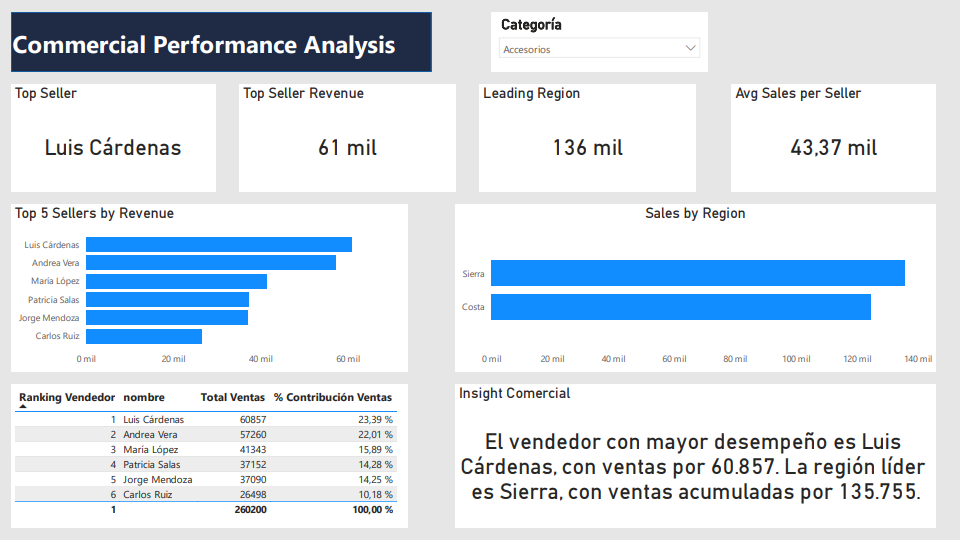

Layout of this report page (visuals, bound fields, positions):
{"tool":"powerbi","page":{"name":"Análisis Comercial","canvas":[1280,720],"ordinal":1},"visuals":[{"type":"slicer","fields":{"Values":["productos.categoria"]},"box":[694.1,174.2,279.4,92.2],"z":0},{"type":"tableEx","fields":{"Values":["Medidas.Top Vendedor","Medidas.Total Ventas","Medidas.Ranking Vendedor"]},"box":[121,178.6,398.9,87.8],"z":1000},{"type":"tableEx","fields":{"Values":["vendedores.nombre","Medidas.Total Ventas","Medidas.% Contribución Ventas"]},"box":[121,312.5,398.9,229],"z":2000},{"type":"barChart","title":"Ventas por Región","fields":{"Category":["vendedores.region"],"Y":["Medidas.Total Ventas"]},"box":[639.4,312.5,548.6,229],"z":3000},{"type":"textbox","box":[468,24.5,289.4,86.4],"z":3001}]}

Visuals, with their boxes in screenshot pixels (x1, y1, x2, y2), scaled from the page's 1280x720 canvas onto the 966x542 screenshot:
slicer - productos.categoria: 524/131/735/201
tableEx - Medidas.Top Vendedor x Medidas.Total Ventas: 91/134/392/201
tableEx - vendedores.nombre x Medidas.Total Ventas: 91/235/392/408
"Ventas por Región" barChart: 483/235/897/408
textbox: 353/18/572/83
